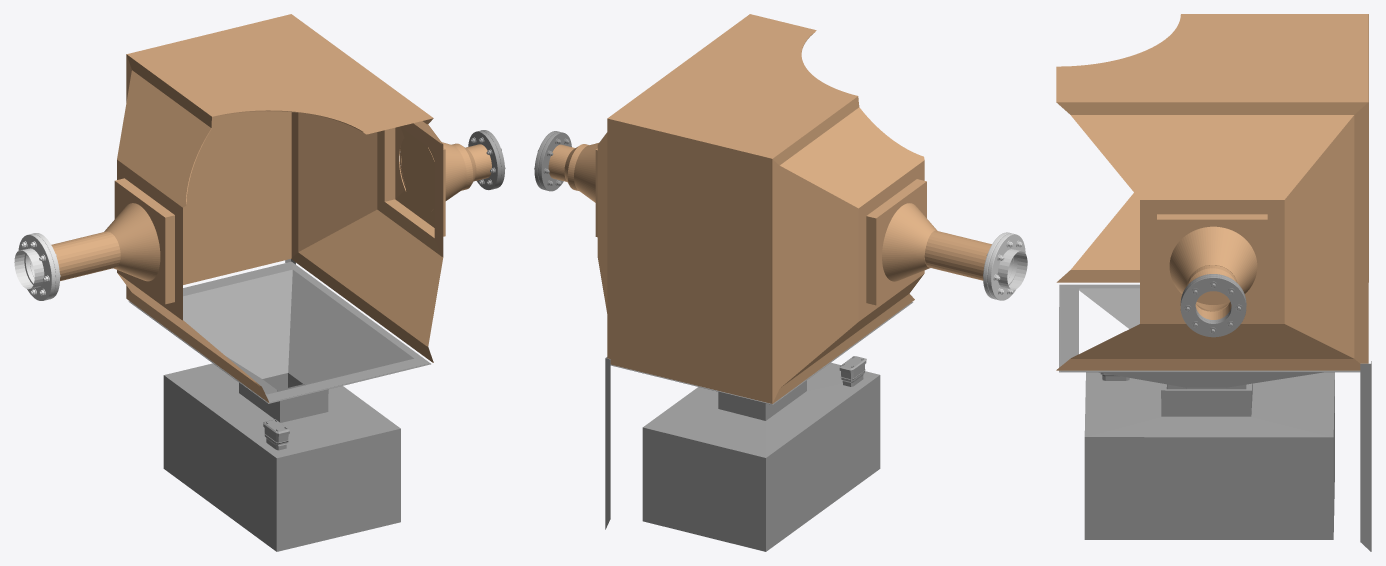
File: Электрофильтр 1.fbx
3 renders of one model, left to right at view 1: azimuth 30°, elevation 25°; view 2: azimuth 150°, elevation 25°; view 3: azimuth 270°, elevation 25°, orthographic. The views are drawn at different scales.
Parts seen in each view (by area): view 1: Фальга.026; view 2: Фальга.026; view 3: Фальга.026.
Boxes of the visible parts, x1,y1,x2,y2 form: Фальга.026: (14, 14, 505, 551); Фальга.026: (534, 14, 1027, 551); Фальга.026: (1056, 14, 1371, 551).
Bounding box in the file's own units: 17540 × 14638 × 9318.
